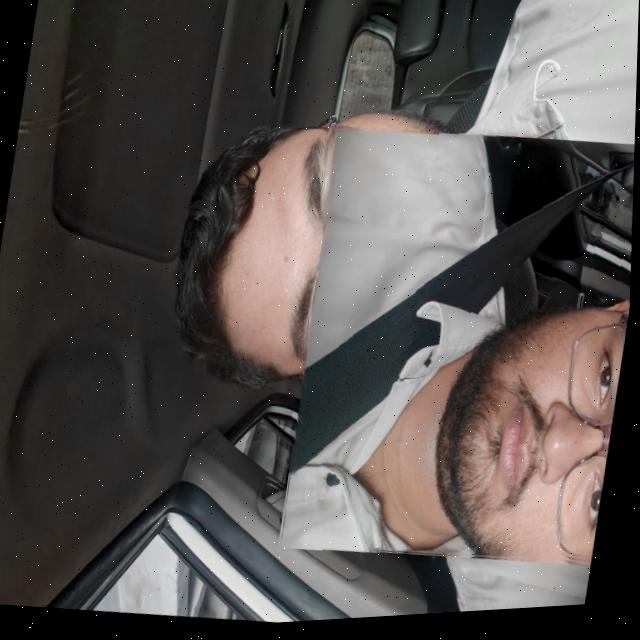seatbelt: (276, 115, 637, 588)
